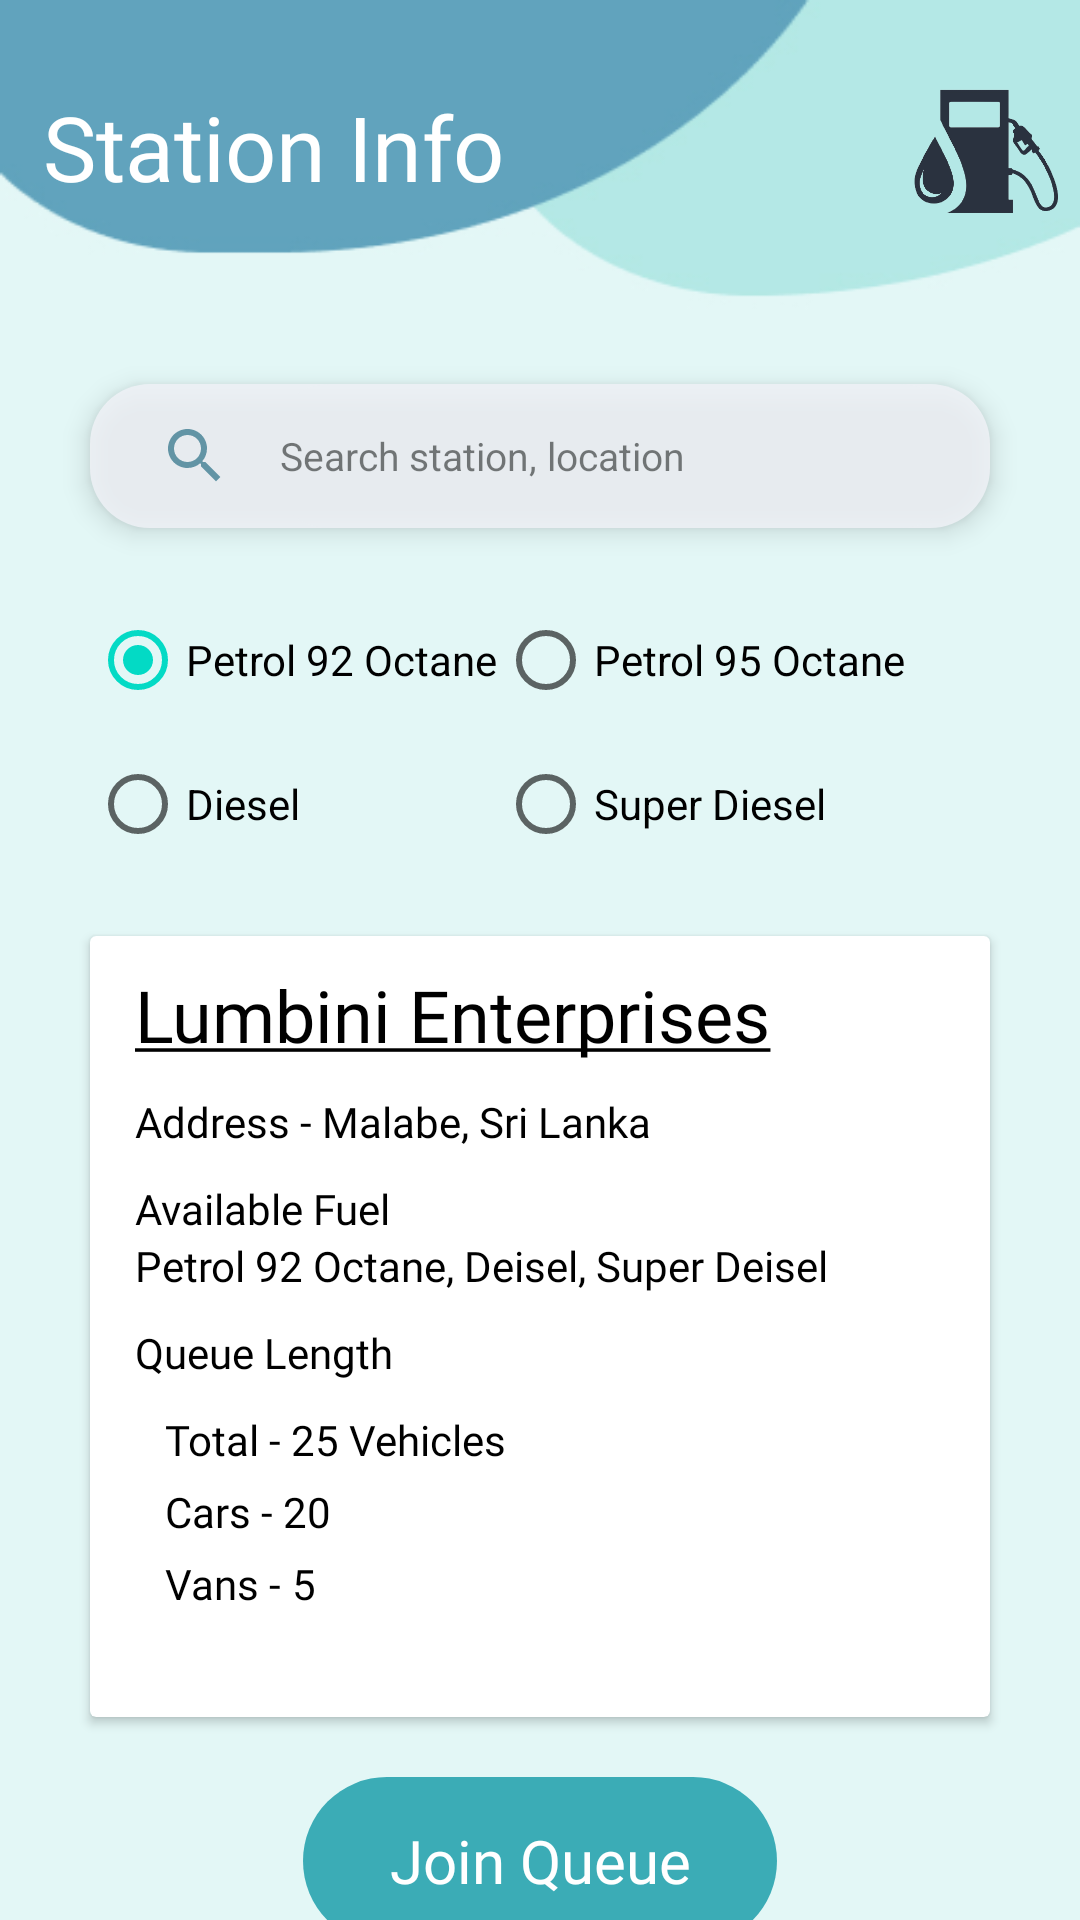

Locate icon controls on the screen. Image size 1080w x 1920h, boxes as (x1, y1, x2, y2).
search: (168, 429, 220, 481)
